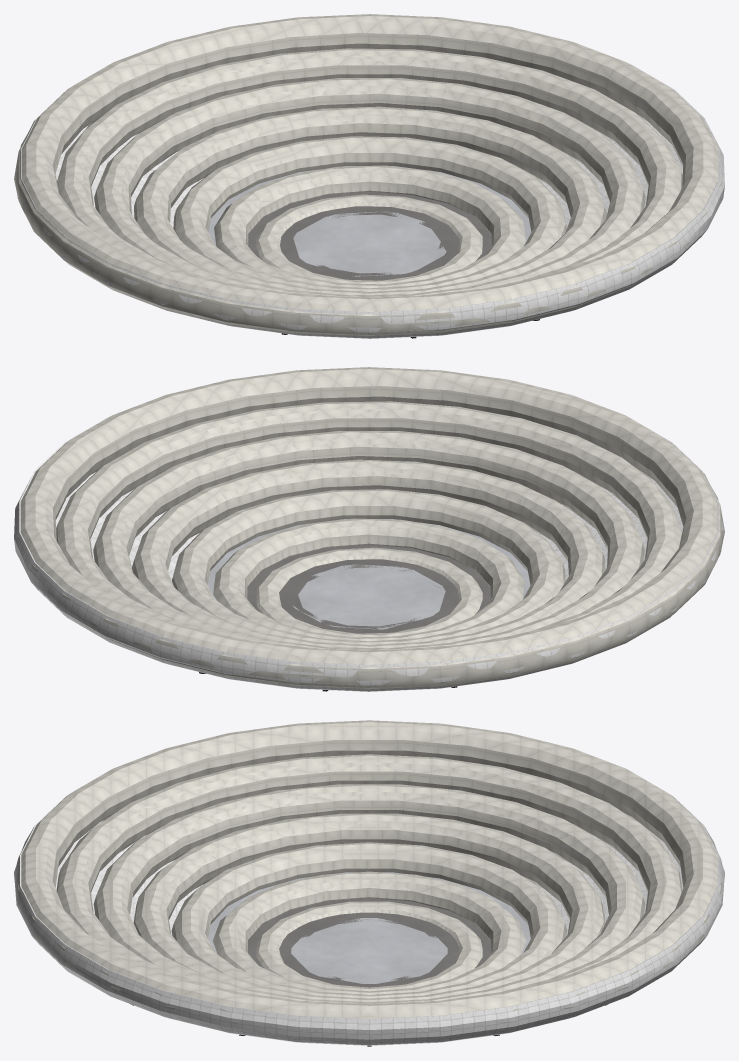
Rendered from ax_cmd_16_hiad_xl_deployed.glb.
3 renders of one model, top to bottom at view 1: azimuth 30°, elevation 25°; view 2: azimuth 150°, elevation 25°; view 3: azimuth 270°, elevation 25°, orthographic.
Parts seen in each view (by area): view 1: tori, blanket, centre_body, payload_deck, interface_ring; view 2: tori, blanket, centre_body, payload_deck, interface_ring; view 3: tori, blanket, centre_body, payload_deck, interface_ring.
Part boxes in pixels (x1=…): tori: x1=14, y1=14, x2=721, y2=338; blanket: x1=15, y1=64, x2=724, y2=338; centre_body: x1=293, y1=211, x2=446, y2=276; payload_deck: x1=248, y1=192, x2=491, y2=280; interface_ring: x1=208, y1=166, x2=531, y2=247; tori: x1=17, y1=367, x2=724, y2=691; blanket: x1=14, y1=417, x2=723, y2=691; centre_body: x1=293, y1=564, x2=445, y2=629; payload_deck: x1=247, y1=545, x2=490, y2=633; interface_ring: x1=207, y1=519, x2=530, y2=600; tori: x1=14, y1=720, x2=724, y2=1033; blanket: x1=14, y1=794, x2=724, y2=1045; centre_body: x1=291, y1=918, x2=447, y2=983; payload_deck: x1=248, y1=898, x2=490, y2=987; interface_ring: x1=208, y1=872, x2=530, y2=954.
Bounding box in the file's own units: 9.97 × 2.43 × 9.97.
Materials: 5 (4 with a texture image).
